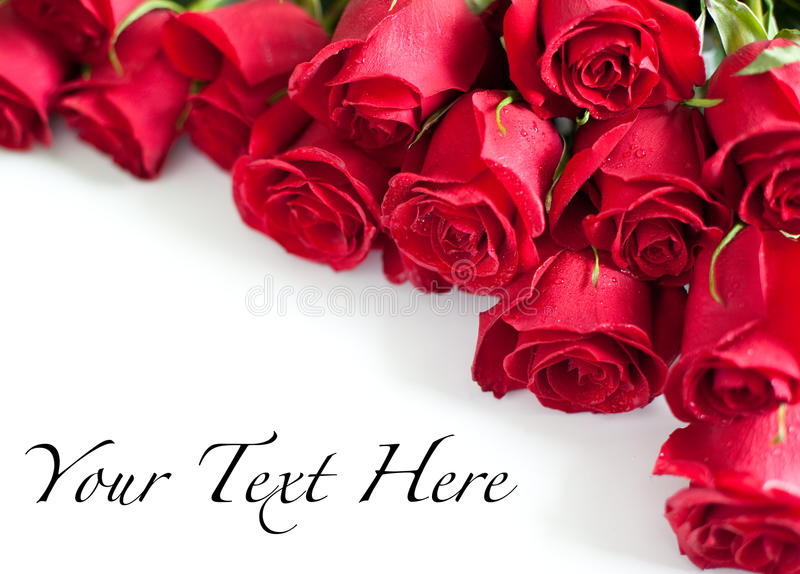RedRose: (369, 103, 563, 284), (645, 362, 800, 534), (516, 266, 676, 412), (500, 0, 707, 111), (686, 217, 800, 400), (576, 120, 722, 261), (238, 127, 369, 270), (80, 33, 187, 176), (726, 43, 800, 226), (195, 8, 284, 157), (380, 1, 470, 137), (25, 40, 98, 149)
